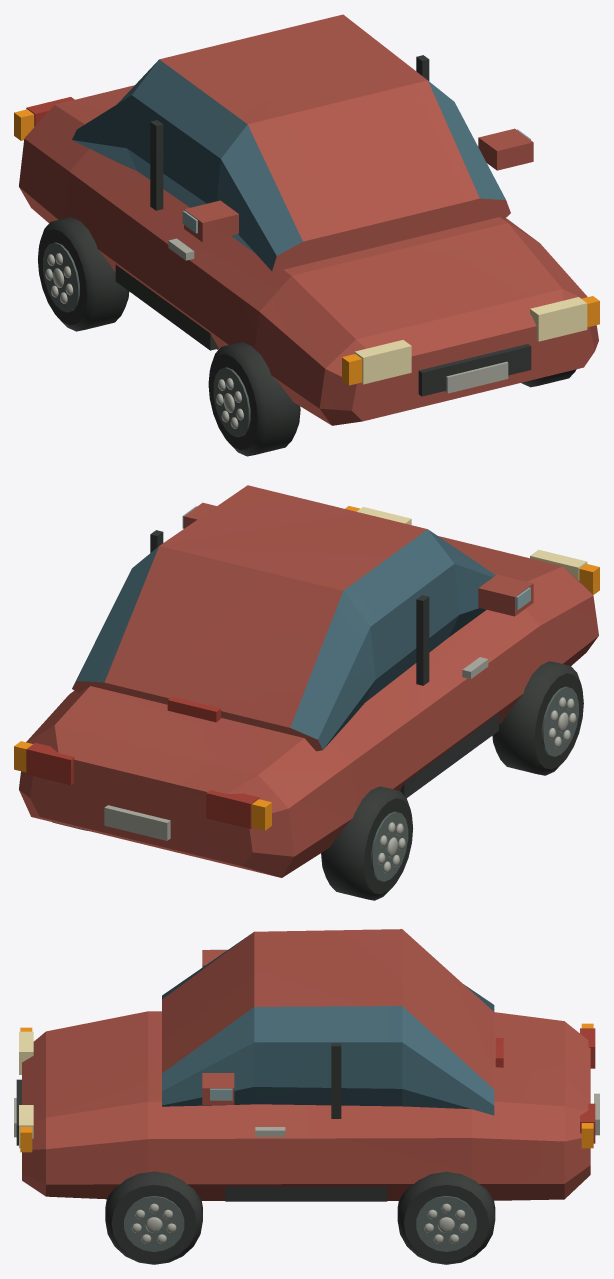
The model's file is sedan.glb.
3 renders of one model, top to bottom at view 1: azimuth 30°, elevation 25°; view 2: azimuth 150°, elevation 25°; view 3: azimuth 270°, elevation 25°, orthographic. The views are drawn at different scales.
Parts seen in each view (by area): view 1: Fastback sedan · Car paint, Fastback sedan · Car glass, Fastback sedan · Tire, Fastback sedan · Headlight, Fastback sedan · Alloy, Fastback sedan · Wheel dark, Fastback sedan · Turn signal; view 2: Fastback sedan · Car paint, Fastback sedan · Car glass, Fastback sedan · Tire, Fastback sedan · Brake, Fastback sedan · Alloy, Fastback sedan · Wheel dark, Fastback sedan · Turn signal, Fastback sedan · Headlight; view 3: Fastback sedan · Car paint, Fastback sedan · Car glass, Fastback sedan · Tire, Fastback sedan · Wheel dark, Fastback sedan · Alloy, Fastback sedan · Brake, Fastback sedan · Headlight, Fastback sedan · Turn signal.
Part boxes in pixels (x1,y1,x2,y2): Fastback sedan · Car paint: [19, 14, 598, 425]; Fastback sedan · Car glass: [72, 59, 505, 270]; Fastback sedan · Tire: [38, 55, 576, 456]; Fastback sedan · Headlight: [354, 297, 587, 384]; Fastback sedan · Alloy: [45, 238, 508, 428]; Fastback sedan · Wheel dark: [43, 242, 250, 437]; Fastback sedan · Turn signal: [14, 109, 599, 385]; Fastback sedan · Car paint: [19, 485, 598, 877]; Fastback sedan · Car glass: [72, 529, 495, 749]; Fastback sedan · Tire: [52, 530, 583, 900]; Fastback sedan · Brake: [26, 696, 259, 828]; Fastback sedan · Alloy: [104, 657, 576, 873]; Fastback sedan · Wheel dark: [371, 686, 578, 881]; Fastback sedan · Turn signal: [14, 506, 599, 830]; Fastback sedan · Headlight: [357, 507, 587, 580]; Fastback sedan · Car paint: [22, 929, 590, 1200]; Fastback sedan · Car glass: [162, 934, 494, 1115]; Fastback sedan · Tire: [16, 1043, 495, 1264]; Fastback sedan · Wheel dark: [124, 1196, 476, 1251]; Fastback sedan · Alloy: [14, 1093, 599, 1243]; Fastback sedan · Brake: [495, 1028, 595, 1143]; Fastback sedan · Headlight: [19, 1031, 33, 1148]; Fastback sedan · Turn signal: [20, 1023, 593, 1152].
Size of the model in its own units: 1.68 by 1.28 by 2.93.
